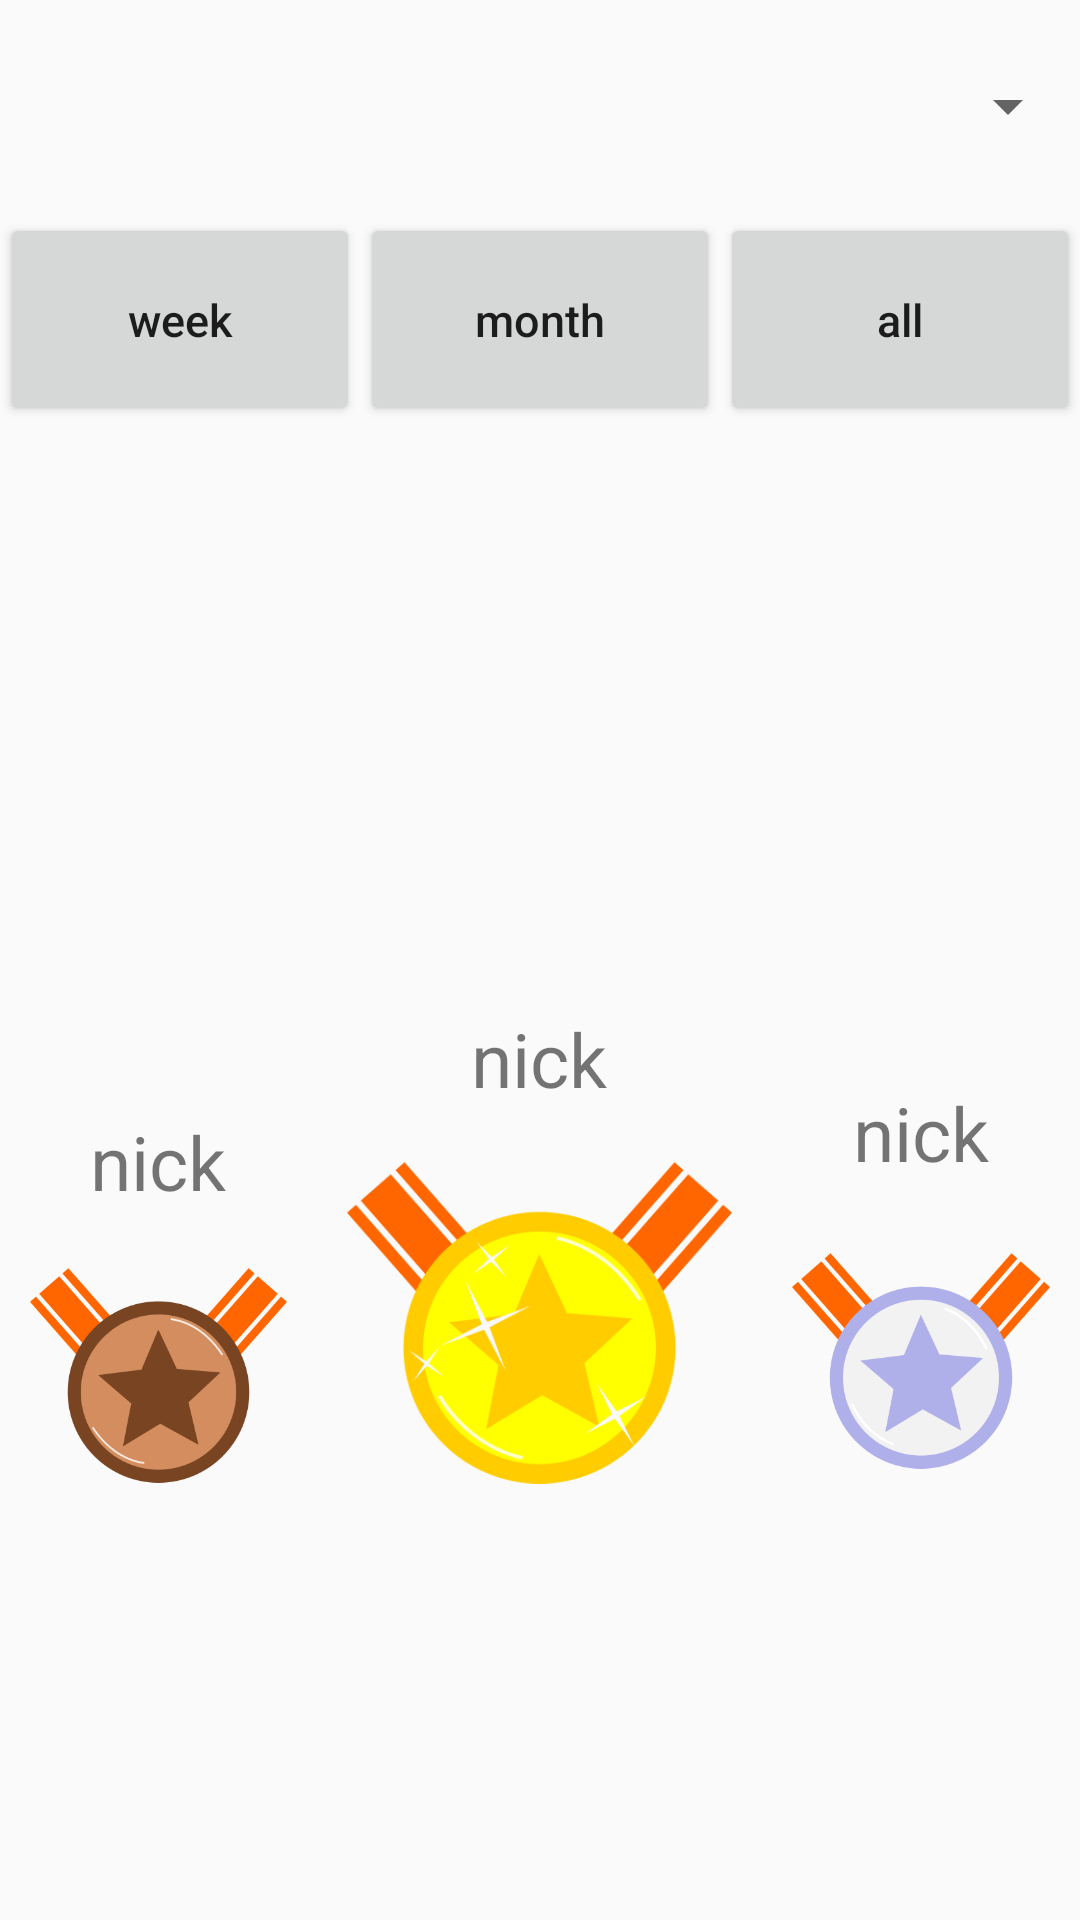

Icon click points for this 1080*1920 phone screenshot, format [x,y]:
secondplace: [921,1361]
thirdplace: [158,1375]
